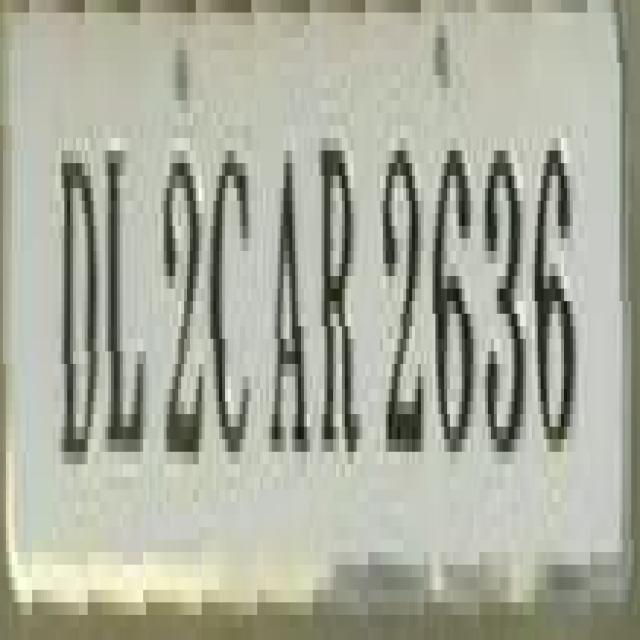plate: (3, 12, 611, 628)
